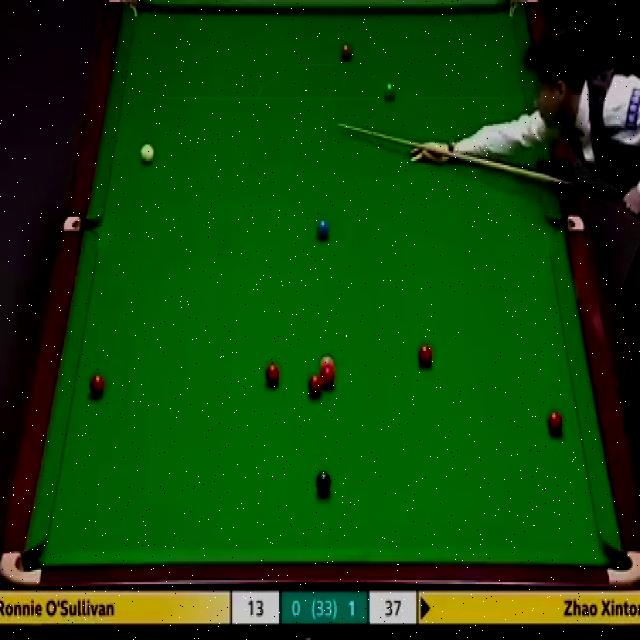black-ball: (316, 471, 332, 495)
blue-ball: (317, 219, 331, 242)
brown-ball: (339, 42, 352, 60)
green-ball: (382, 79, 396, 101)
pink-ball: (319, 354, 336, 372)
red-ball: (547, 409, 564, 437), (417, 341, 433, 368), (264, 363, 280, 387), (308, 375, 323, 397), (90, 373, 104, 396), (319, 369, 334, 386)
white-ball: (139, 142, 154, 163)
